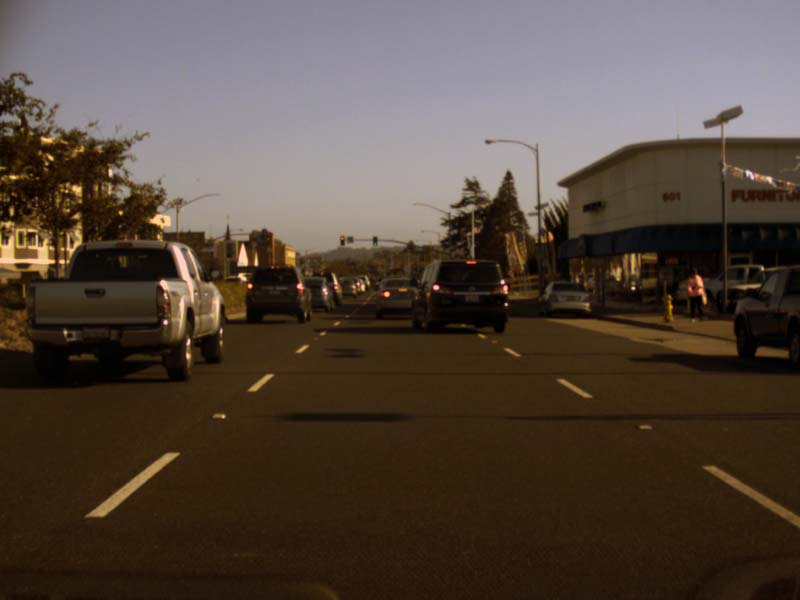Green: (372, 236, 377, 245)
Red: (339, 236, 344, 245)
